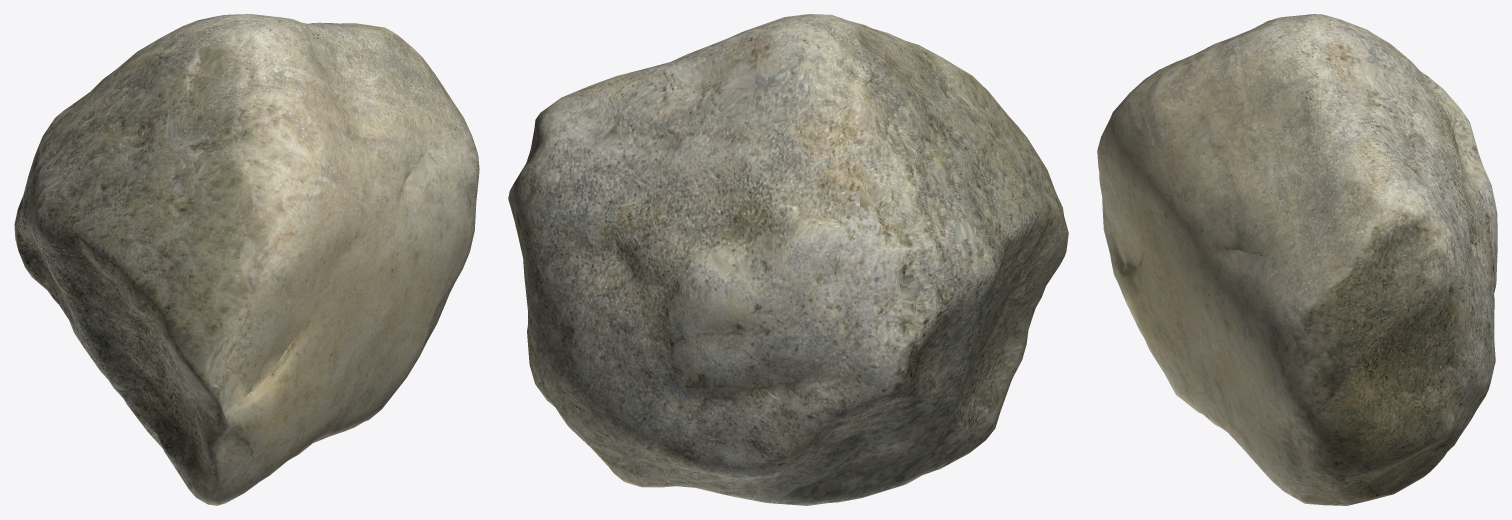
The picture shows the model from 3 angles, left to right: view 1: azimuth 30°, elevation 25°; view 2: azimuth 150°, elevation 25°; view 3: azimuth 270°, elevation 25°; orthographic projection. The views are drawn at different scales.
Parts seen in each view (by area): view 1: stone02; view 2: stone02; view 3: stone02.
Boxes of the visible parts, bbox=[...] form: stone02: bbox=[14, 14, 479, 505]; stone02: bbox=[508, 14, 1068, 505]; stone02: bbox=[1097, 14, 1497, 505].
Size of the model in its own units: 1.21 by 1.17 by 1.
Materials: 1 (1 with a texture image).
